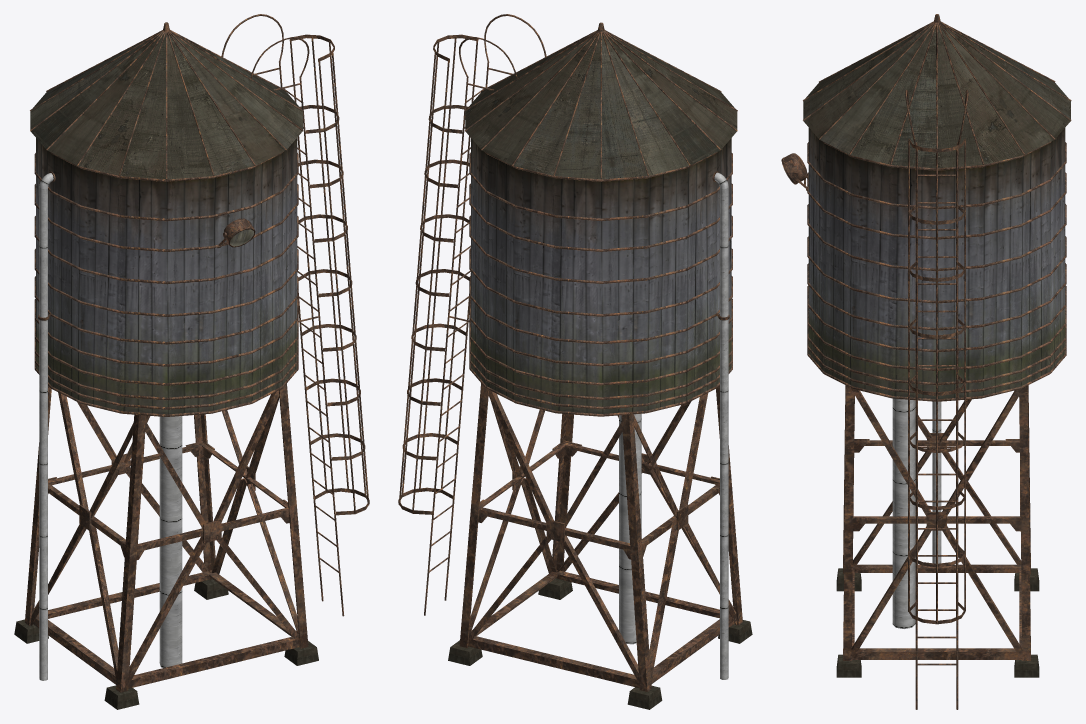
File: water_tower.FBX
3 views of the same model, side by side, from view 1: azimuth 30°, elevation 25°; view 2: azimuth 150°, elevation 25°; view 3: azimuth 270°, elevation 25° (orthographic).
Visible parts, largest first — view 1: water_tower; view 2: water_tower; view 3: water_tower.
Part boxes in pixels (box(x1,y1,x2,y2)): water_tower: box(14, 14, 369, 709); water_tower: box(398, 14, 752, 709); water_tower: box(781, 14, 1071, 709).
Bounding box in the file's own units: 5.95 × 10.86 × 4.64.
5 materials, 5 textured.
